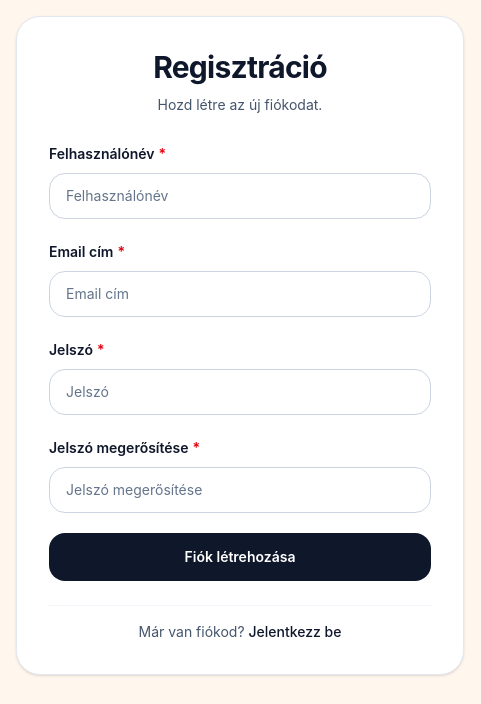
Test case: RegisterPage › shows validation errors when all required fields are empty
Click the button "Fiók létrehozása".
click(240, 557)  # box [49, 533, 431, 581]
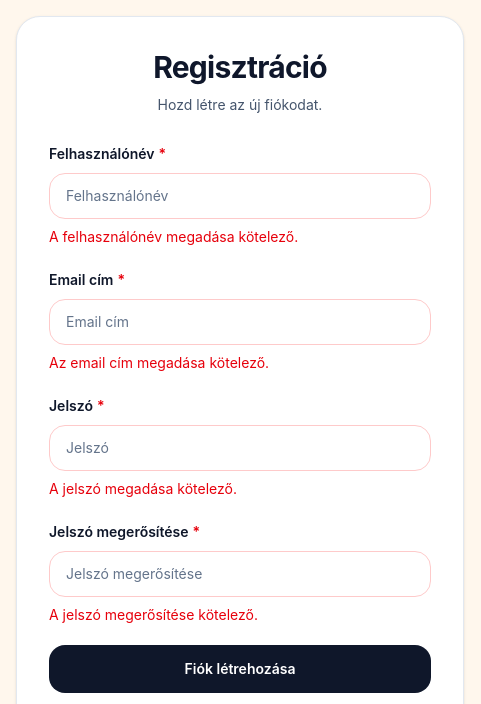
expect the text "A felhasználónév megadása kötelező." is shown: met, box [49, 228, 298, 245]
expect the text "Az email cím megadása kötelező." is shown: met, box [49, 354, 269, 371]
expect the text "A jelszó megadása kötelező." is shown: met, box [49, 480, 237, 497]
